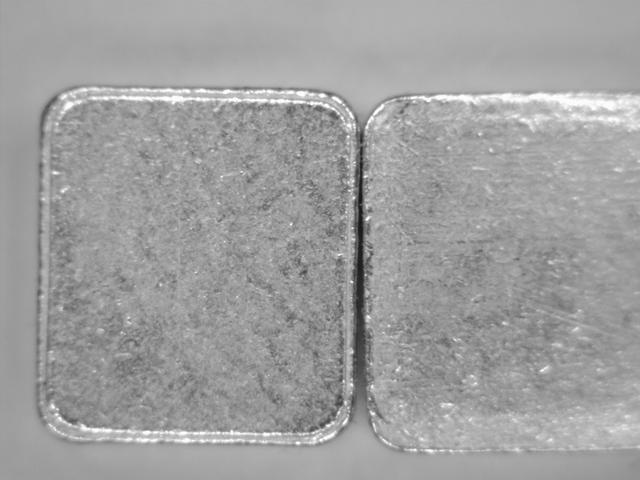nok: (33, 83, 360, 454)
ok: (363, 86, 638, 455)
